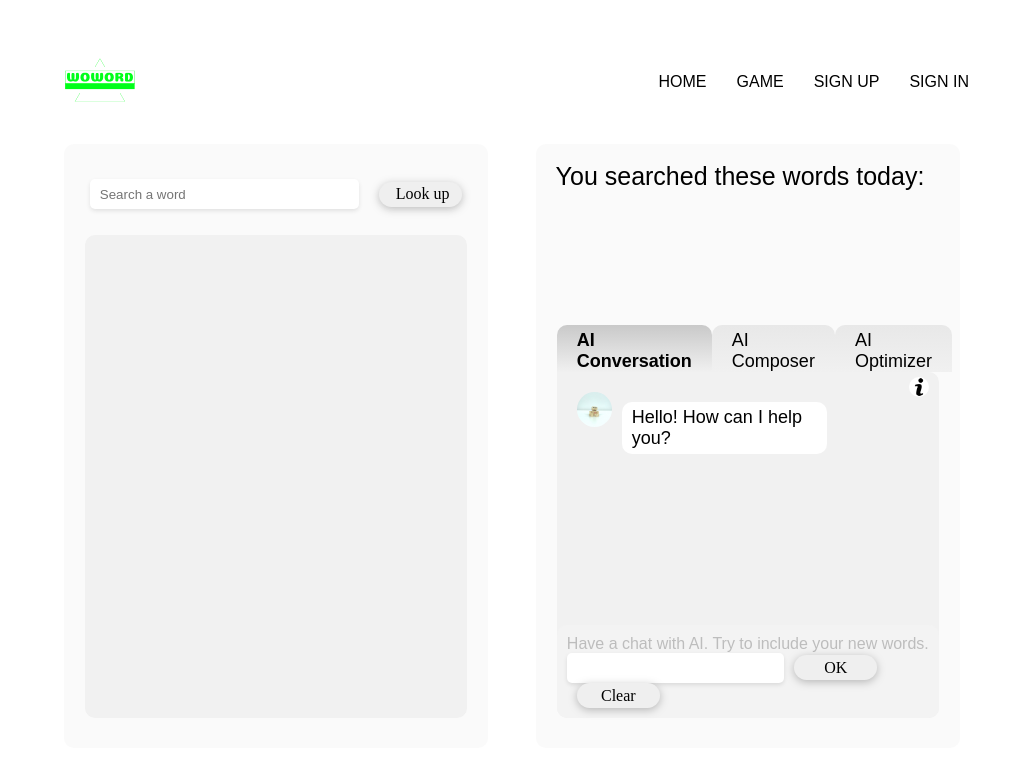
testing game page
Click the link "GAME" at coordinates (760, 82), box top-left (736, 73), bottom-right (784, 90)
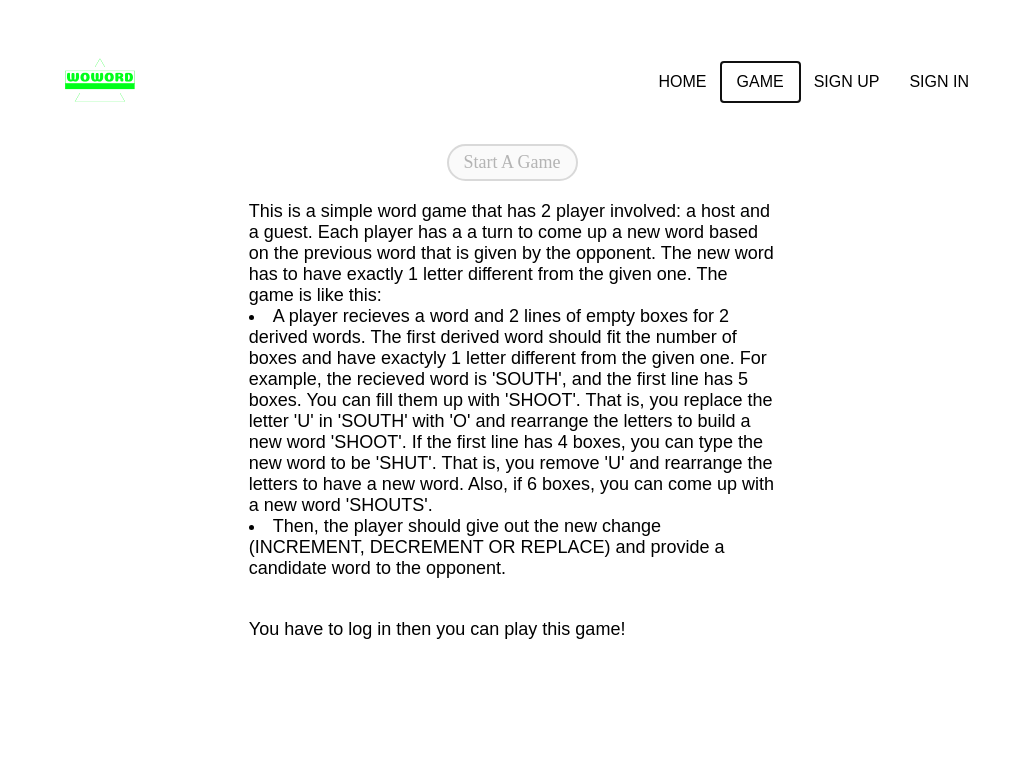
Expected: the button "Start A Game" is disabled, top-left (446, 144), bottom-right (578, 181)
Expected: the text "This is a simple word game that has 2 player involved: a host and a guest. Each player has a a turn to come up a new wor" is shown, top-left (249, 201), bottom-right (774, 305)
